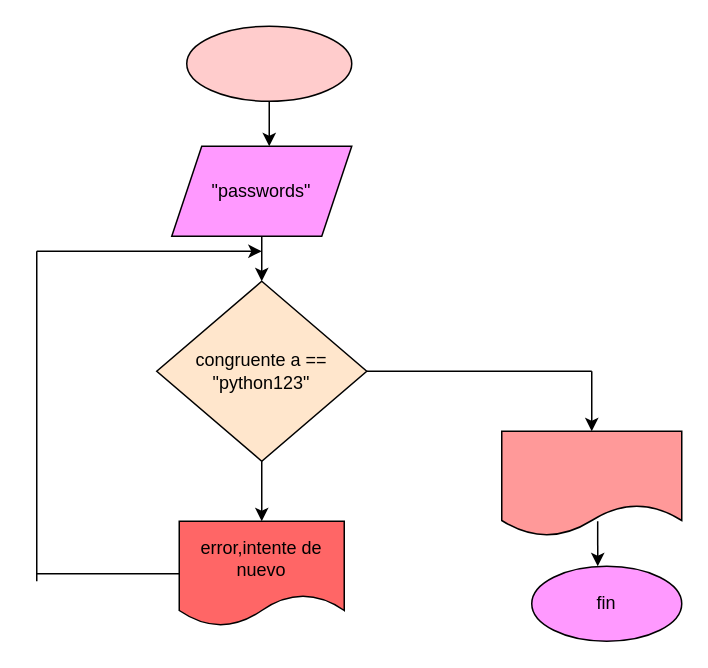
This 708x668 diagram has some shape labels left out. Here are the shapes that lost their labels. From the top down, the centre of each, then its label:
At (268,63): "incio".
At (591,483): "acceso concedido".
